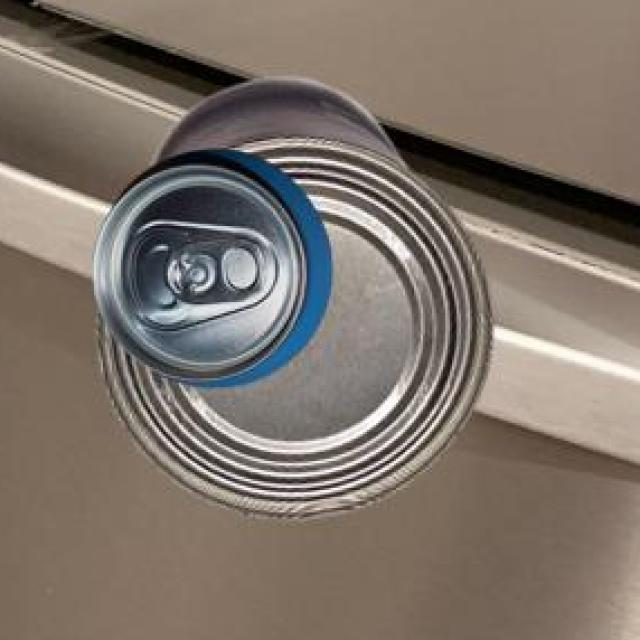logam: (93, 75, 489, 516), (91, 147, 328, 384)
